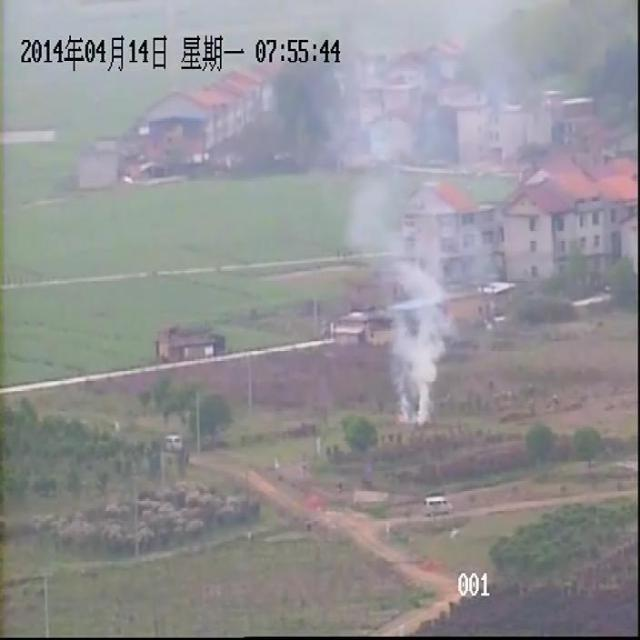Smoke: (322, 94, 504, 427)
